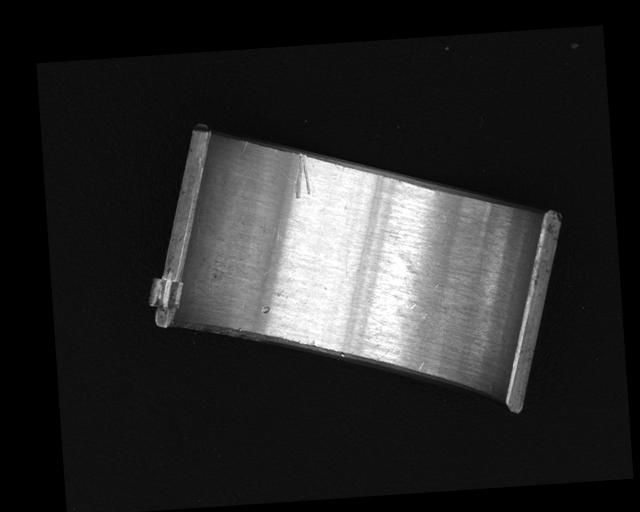bruise: (259, 304, 271, 316)
nick: (290, 152, 314, 199), (239, 139, 249, 153)
